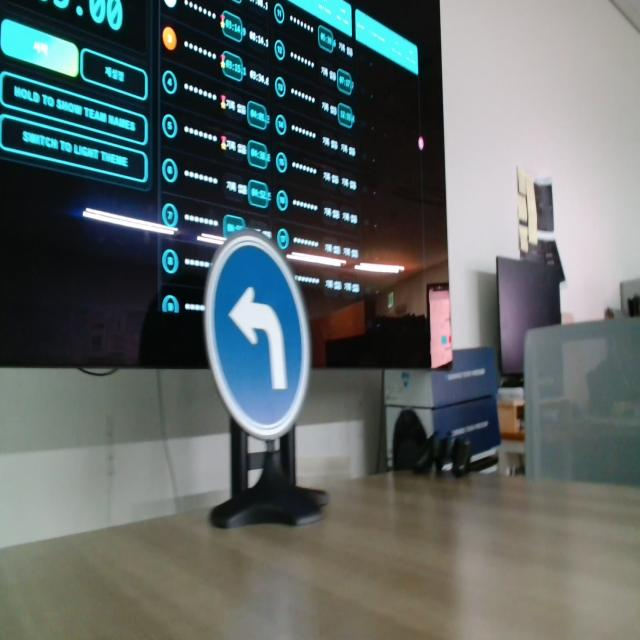left_direction: (200, 229, 315, 439)
